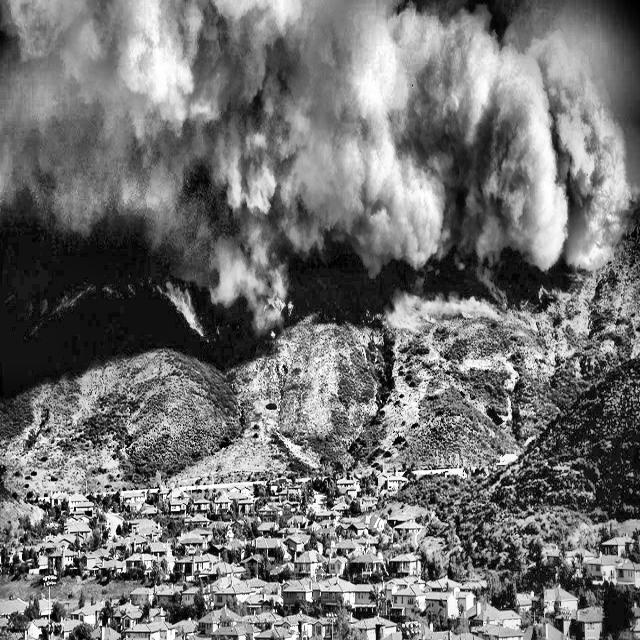fire: (34, 197, 618, 473)
